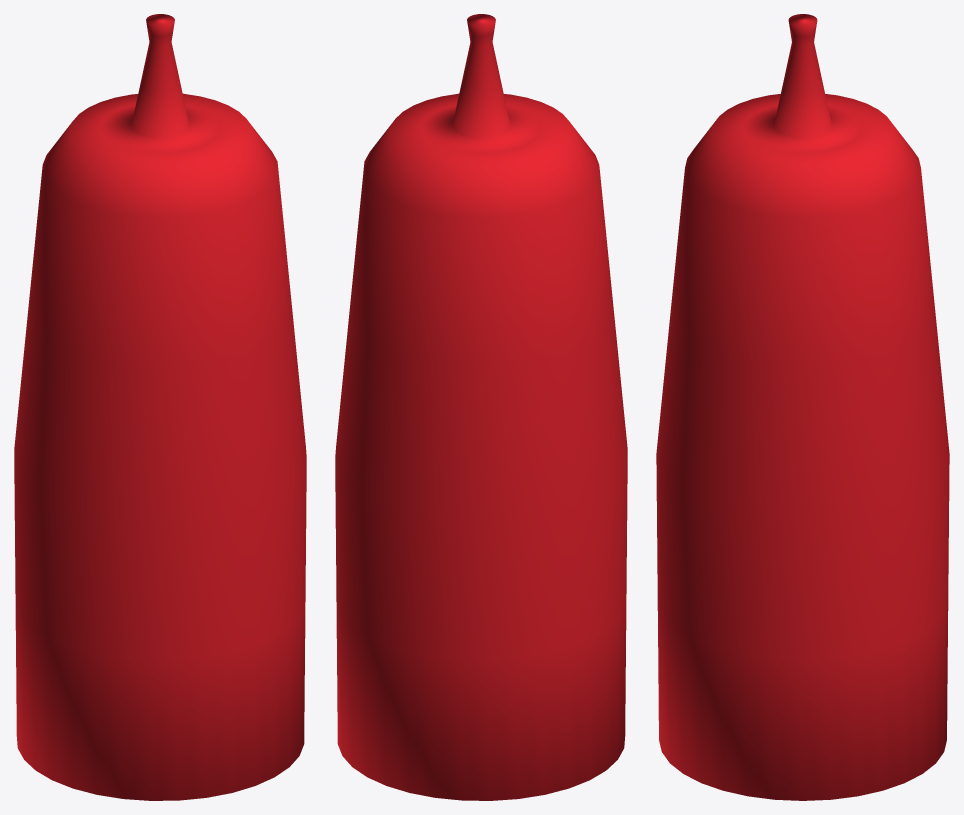
The model's file is ketchup.fbx.
3 views of the same model, side by side, from view 1: azimuth 30°, elevation 25°; view 2: azimuth 150°, elevation 25°; view 3: azimuth 270°, elevation 25° (orthographic).
Parts seen in each view (by area): view 1: Cylinder.008; view 2: Cylinder.008; view 3: Cylinder.008.
Part boxes in pixels (<box>): Cylinder.008: <box>14,14,306,800</box>; Cylinder.008: <box>335,14,627,800</box>; Cylinder.008: <box>656,14,949,800</box>.
Size of the model in its own units: 17.78 by 48.17 by 17.78.
